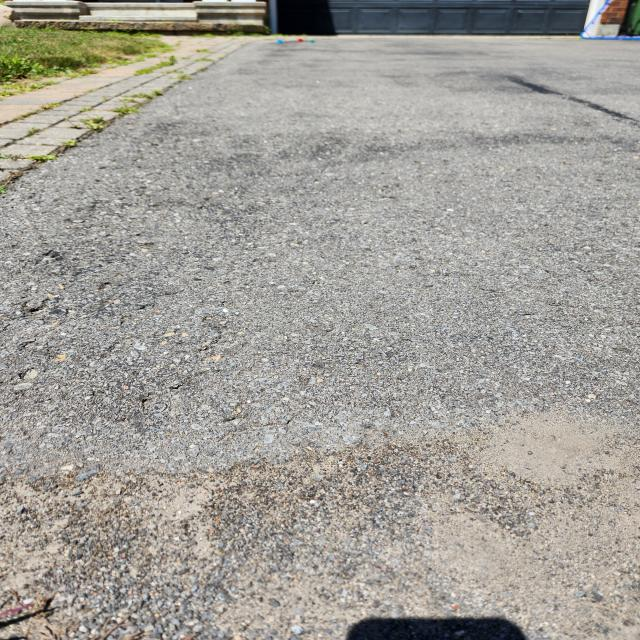bluecube: (277, 40, 282, 44)
green cube: (310, 40, 315, 44)
red cube: (298, 38, 303, 42)
